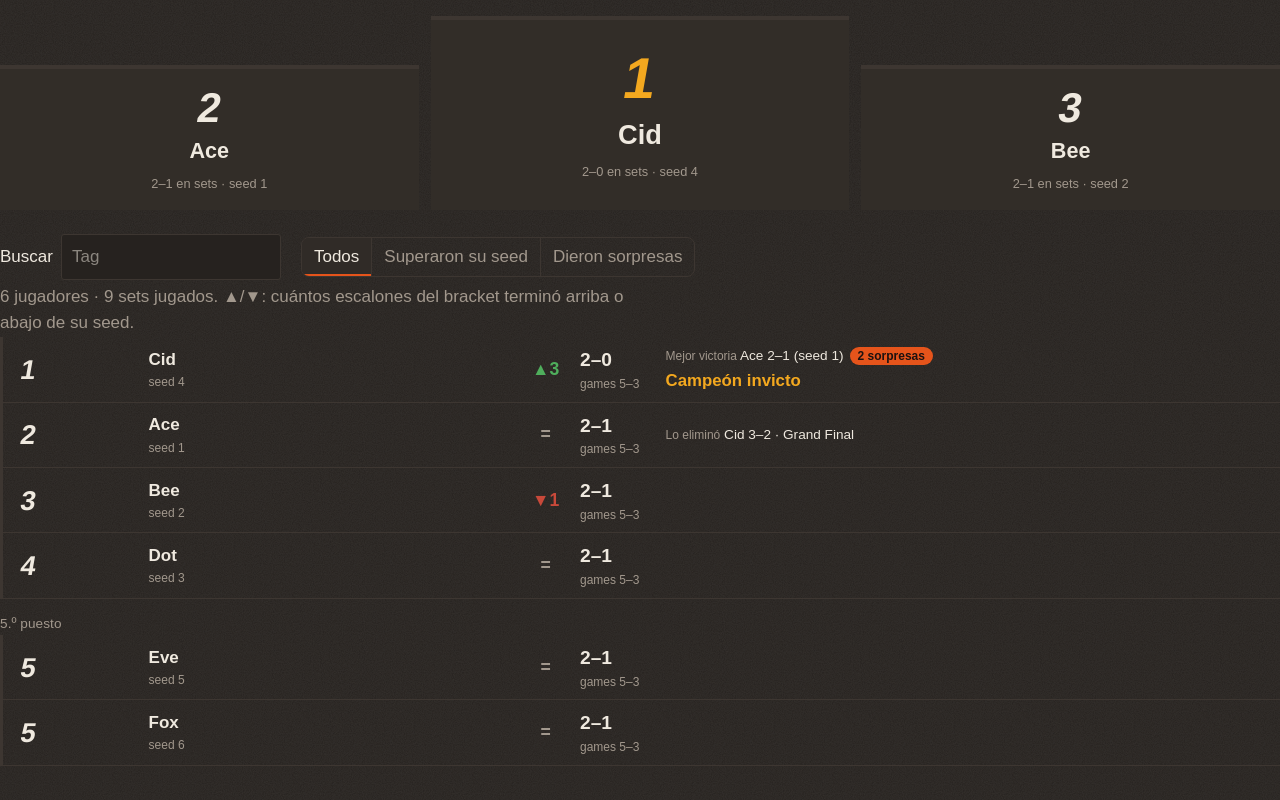
Scenario: filters by tag and by players who beat their seed
This screenshot has width=1280, height=800.
Type "fo" into the search field labelled "Buscar" at [171, 257], box [61, 234, 281, 280]
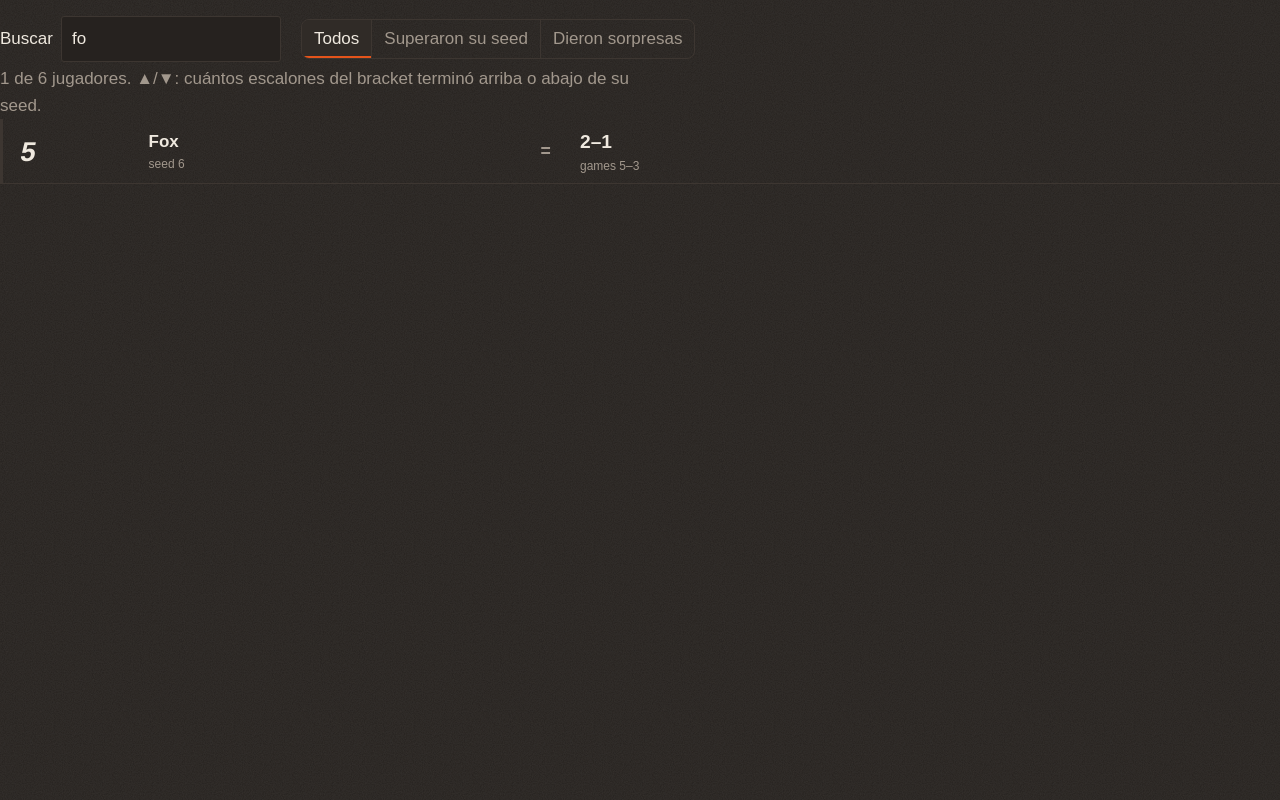
Expected: the message shows "1 de 6 jugadores", [0, 69, 131, 88]
Expected: the list "Podio" is gone
Clear the search field labelled "Buscar" at [171, 39], box [61, 16, 281, 62]
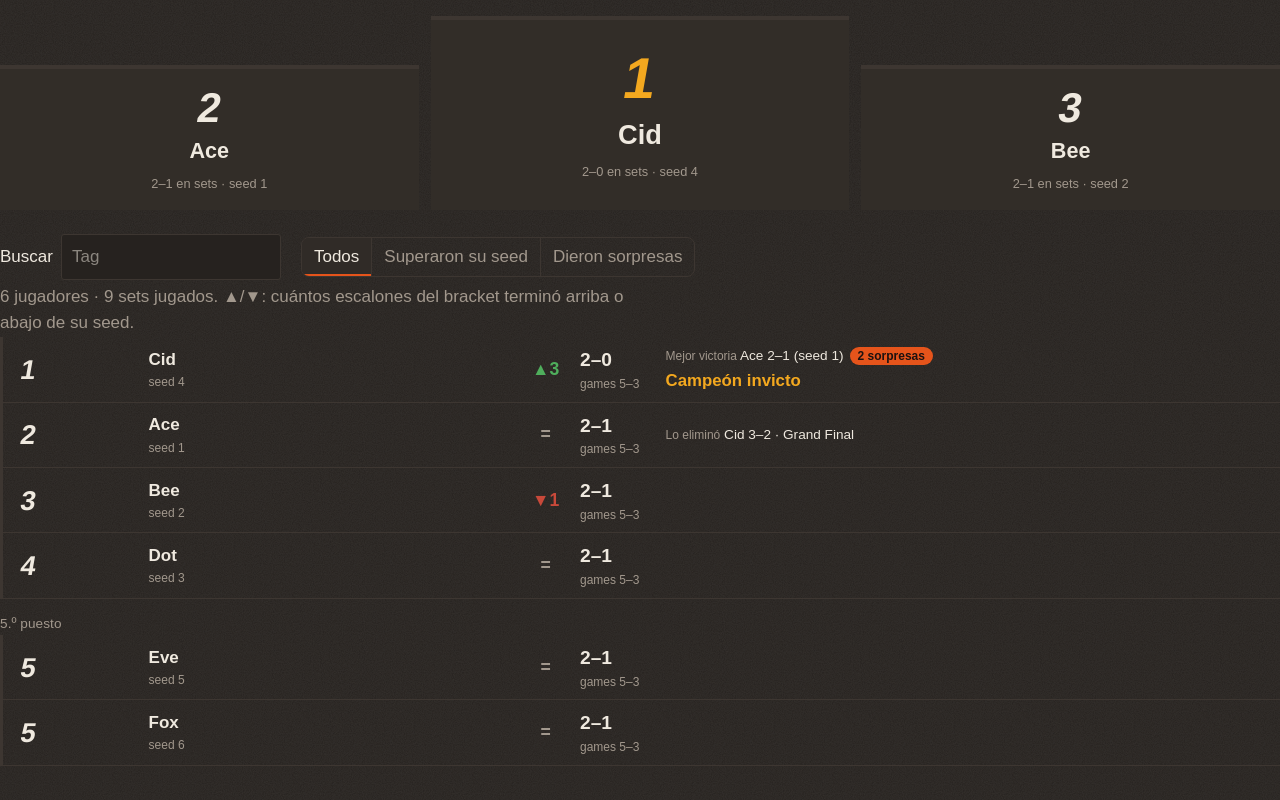
Click the button "Superaron su seed" at [456, 257], box [371, 238, 540, 276]
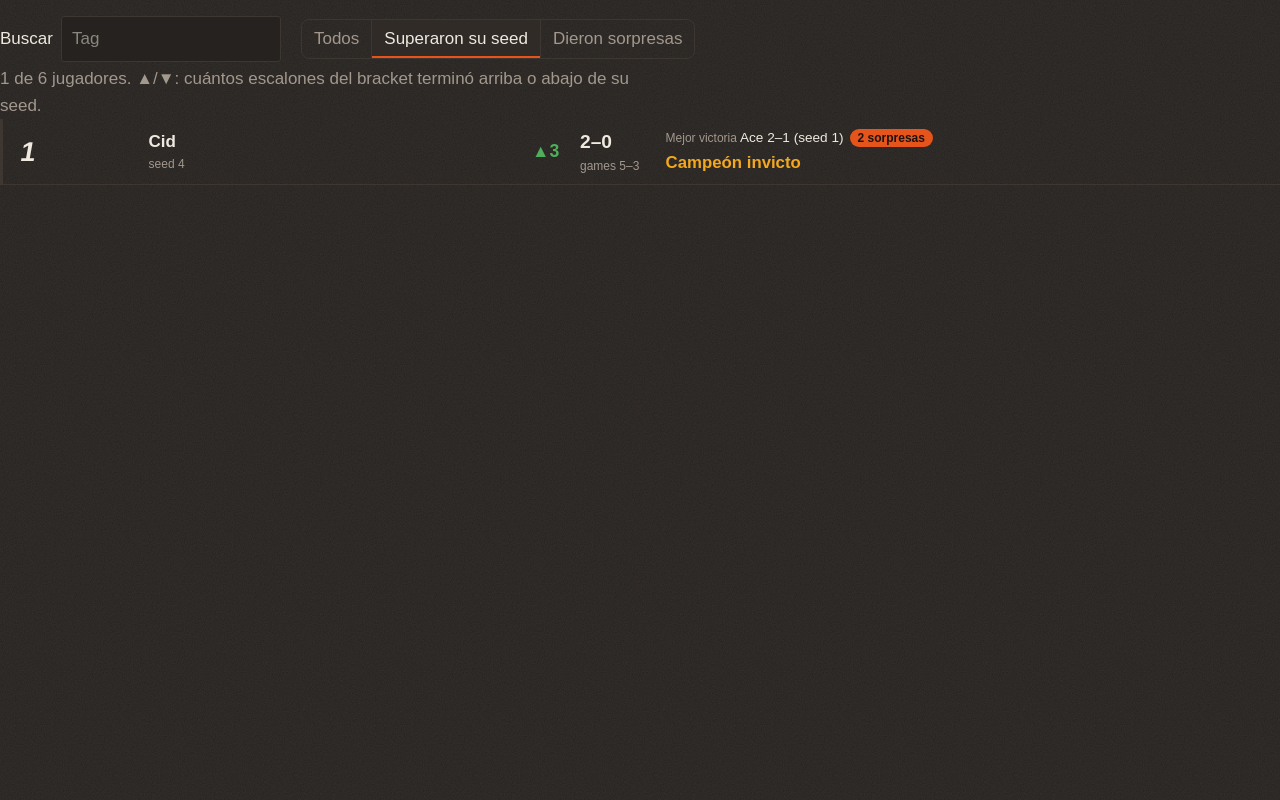
Expected: the link "Cid" is shown, [149, 132, 176, 151]
Expected: the message shows "1 de 6 jugadores", [0, 69, 131, 88]
